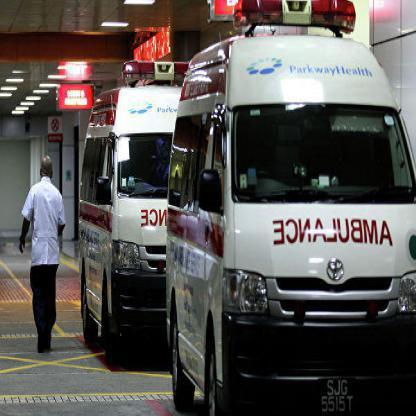Ambulance - v1 Ambulance last generate: (162, 0, 415, 412), (74, 45, 206, 356)
